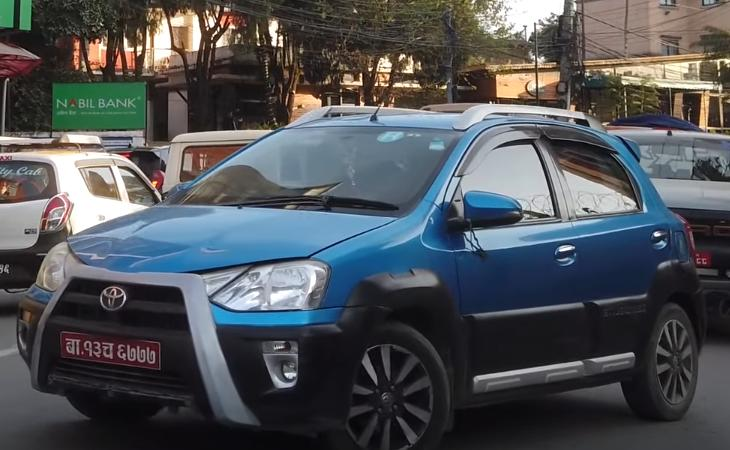car: (21, 103, 730, 430)
taxi: (0, 129, 166, 291)
